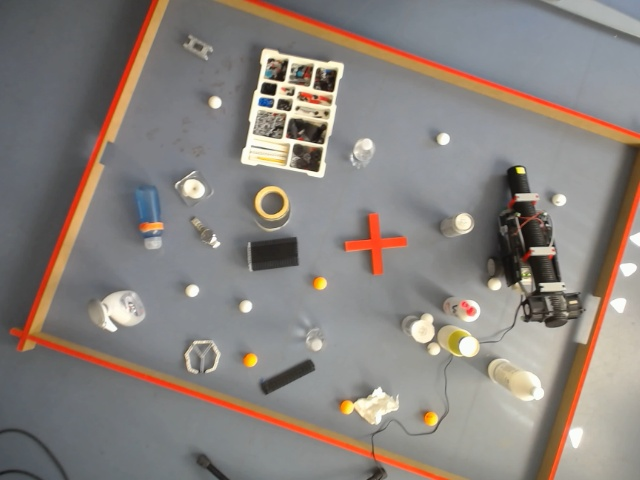orange: (242, 352, 258, 368), (312, 276, 328, 292), (424, 410, 439, 427), (339, 399, 354, 415)
robot: (198, 48, 362, 195)
white: (411, 314, 434, 345), (459, 332, 480, 360), (183, 283, 202, 300), (434, 130, 452, 147), (307, 334, 323, 353), (237, 298, 254, 315), (487, 258, 497, 277), (428, 341, 440, 356), (488, 278, 501, 291)
